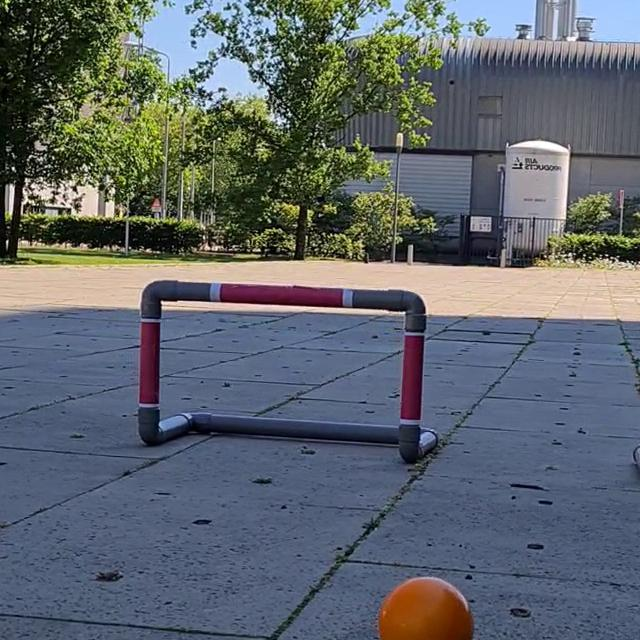ball: (378, 574, 477, 640)
